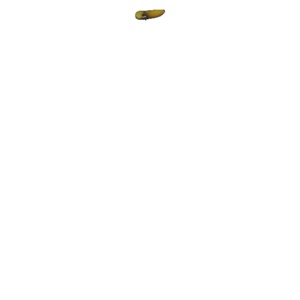banana: (132, 3, 169, 23)
